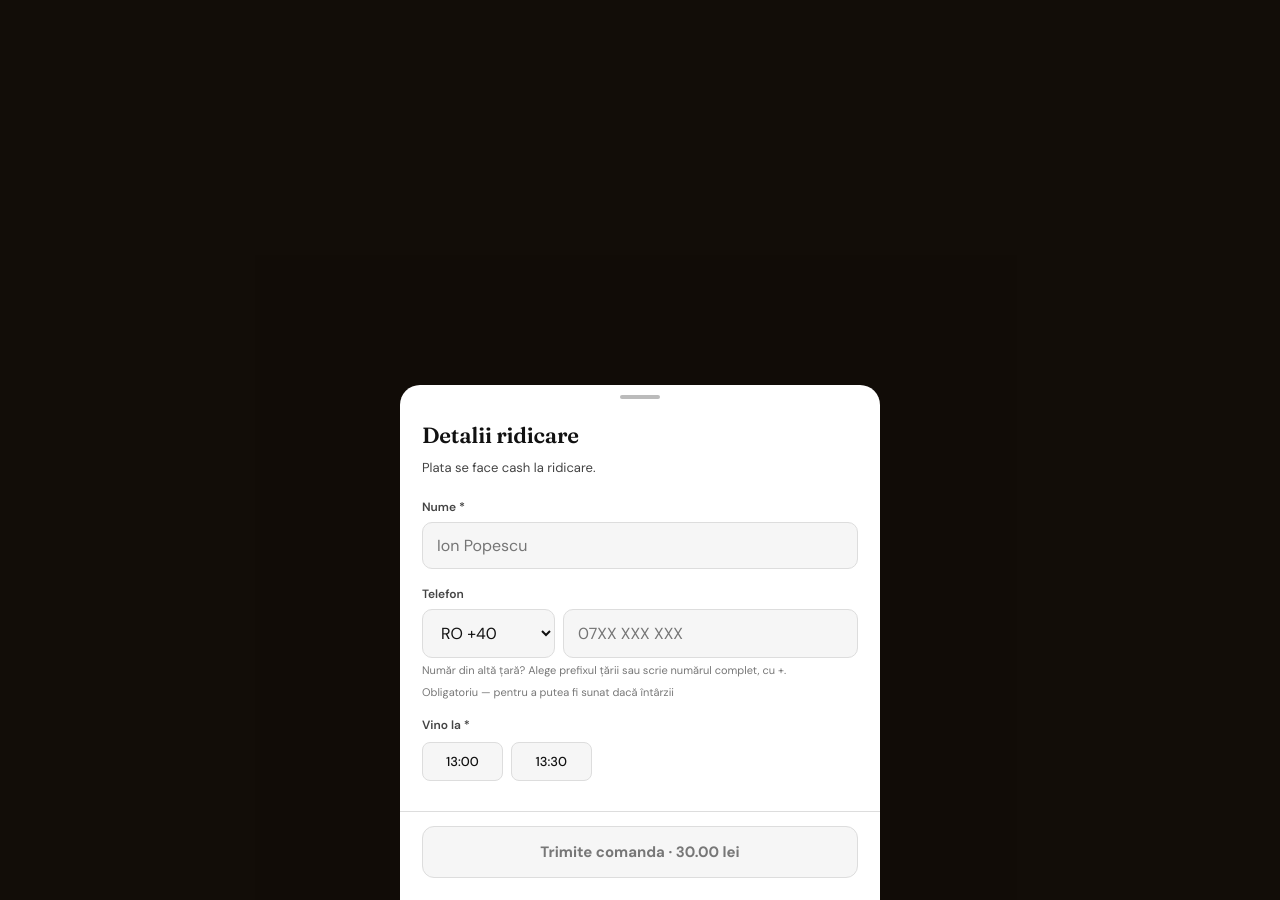
Scenario: PickupCheckoutSheet — text lizibil peste accent › S9 CTA-ul activ folosește culoarea calculată, nu alb
Click the button "13:00": (462, 762) [422, 742, 503, 781]
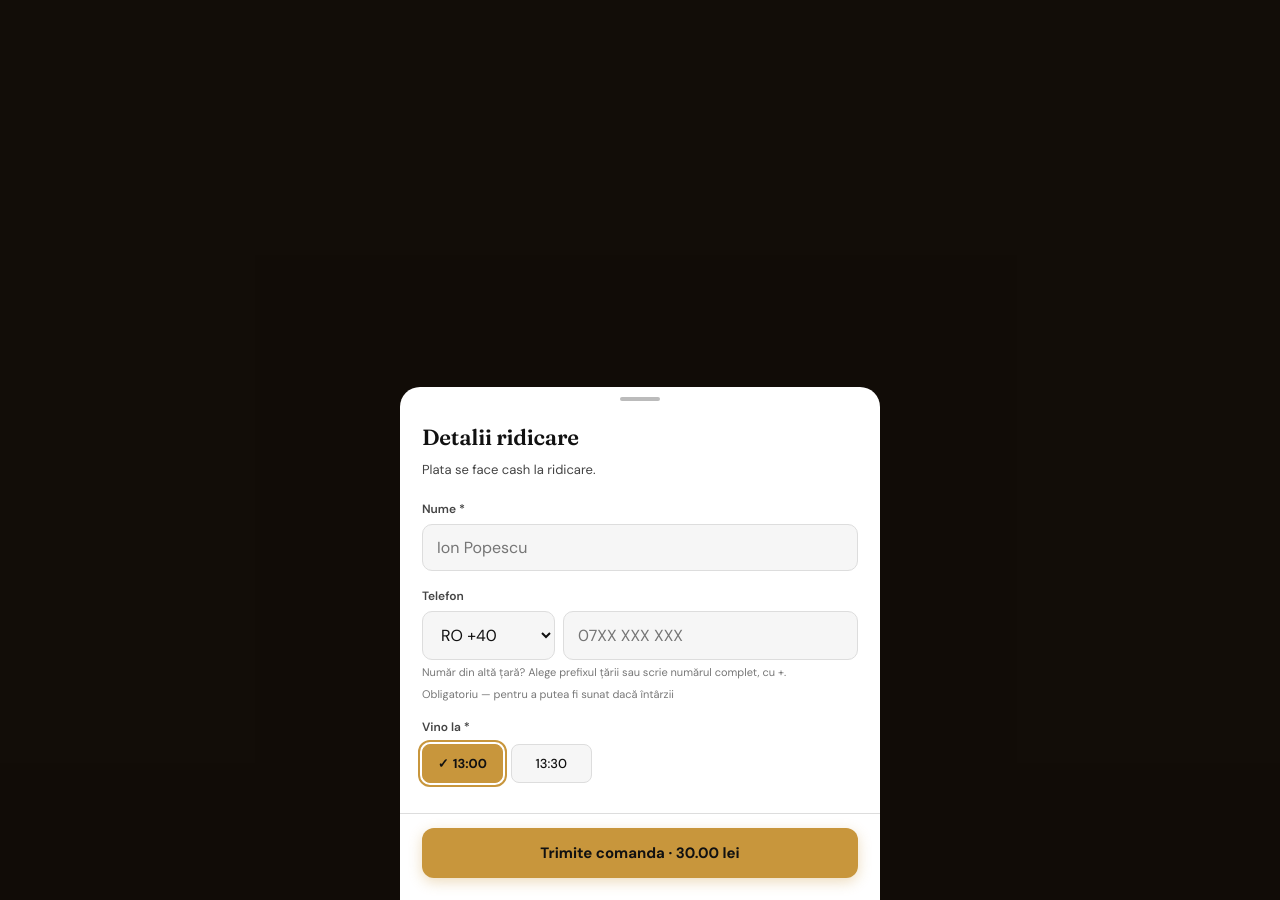
Expected: the button "Trimite comanda · 30.00 lei" is enabled, [422, 828, 858, 878]
